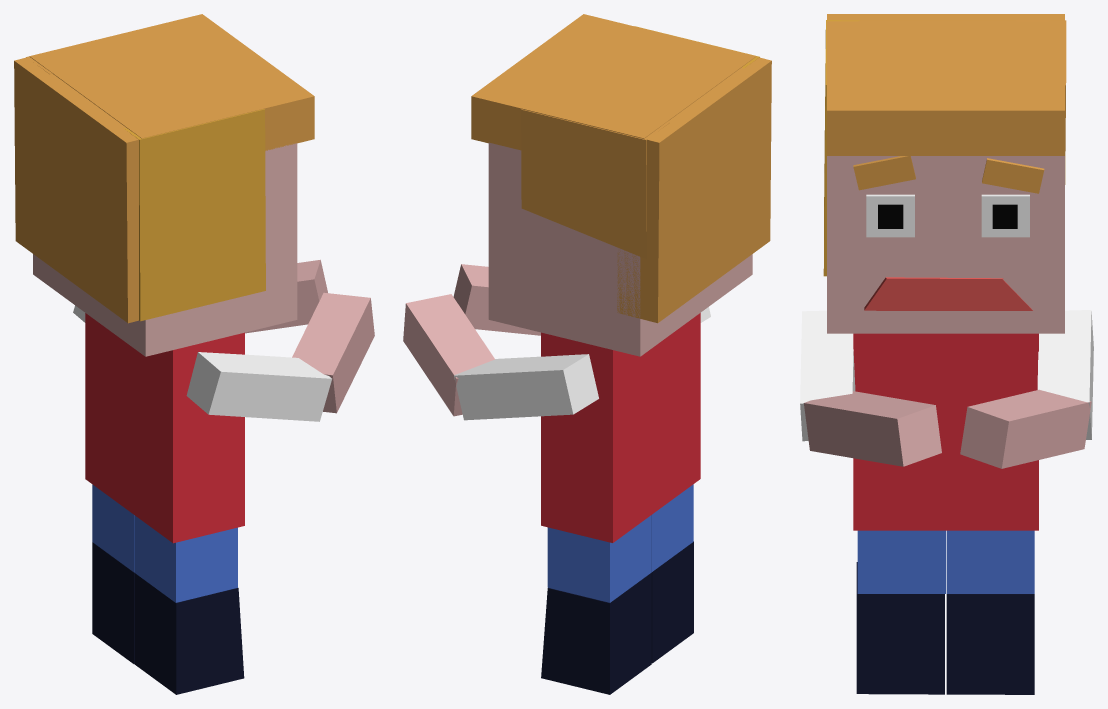
Rendered from DesignDaniel.fbx.
3 views of the same model, side by side, from view 1: azimuth 30°, elevation 25°; view 2: azimuth 150°, elevation 25°; view 3: azimuth 270°, elevation 25° (orthographic). The views are drawn at different scales.
Parts seen in each view (by area): view 1: Body, Hair2, Hair4, Hair1, Head, FootR, ArmR, LegR, ArmR2, FootL, LegR.001, ArmL2; view 2: Body, Hair2, Head, Hair1, Hair3, FootL, ArmL, LegR.001, ArmL2, FootR, LegR, ArmR2; view 3: Hair1, Head, Body, FootR, FootL, ArmR2, ArmL2, LegR, LegR.001, Mouth, ArmL, ArmR (+8 smaller).
Part boxes in pixels (box(x1,y1,x2,y2)): Body: box(85, 313, 244, 543); Hair2: box(14, 56, 138, 323); Hair4: box(123, 109, 265, 321); Hair1: box(29, 14, 314, 150); Head: box(33, 143, 297, 356); FootR: box(134, 573, 244, 694); ArmR: box(186, 352, 331, 421); LegR: box(134, 515, 237, 602); ArmR2: box(292, 292, 374, 413); FootL: box(92, 542, 134, 663); LegR.001: box(92, 484, 134, 571); ArmL2: box(245, 259, 327, 333); Body: box(541, 313, 700, 542); Hair2: box(617, 57, 771, 323); Head: box(488, 142, 752, 356); Hair1: box(471, 14, 756, 150); Hair3: box(521, 109, 669, 259); FootL: box(541, 573, 651, 694); ArmL: box(454, 354, 598, 420); LegR.001: box(547, 515, 651, 602); ArmL2: box(403, 294, 494, 416); FootR: box(651, 541, 693, 663); LegR: box(651, 484, 693, 571); ArmR2: box(453, 264, 540, 335); Hair1: box(827, 21, 1064, 155); Head: box(827, 156, 1064, 333); Body: box(853, 333, 1038, 530); FootR: box(856, 562, 944, 694); FootL: box(946, 594, 1034, 694); ArmR2: box(804, 391, 941, 466); ArmL2: box(960, 389, 1091, 468); LegR: box(857, 530, 945, 593); LegR.001: box(946, 530, 1034, 593); Mouth: box(864, 277, 1032, 310); ArmL: box(1037, 310, 1093, 439); ArmR: box(800, 310, 855, 441).
Size of the model in its own units: 294 by 568 by 247.
